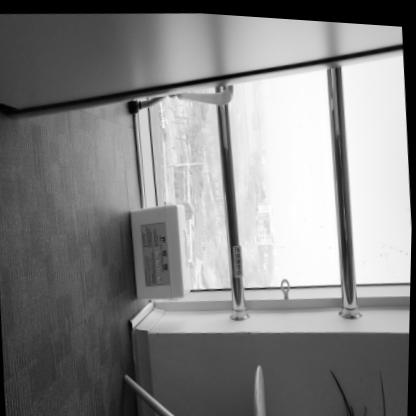DDL: (127, 196, 194, 302)
